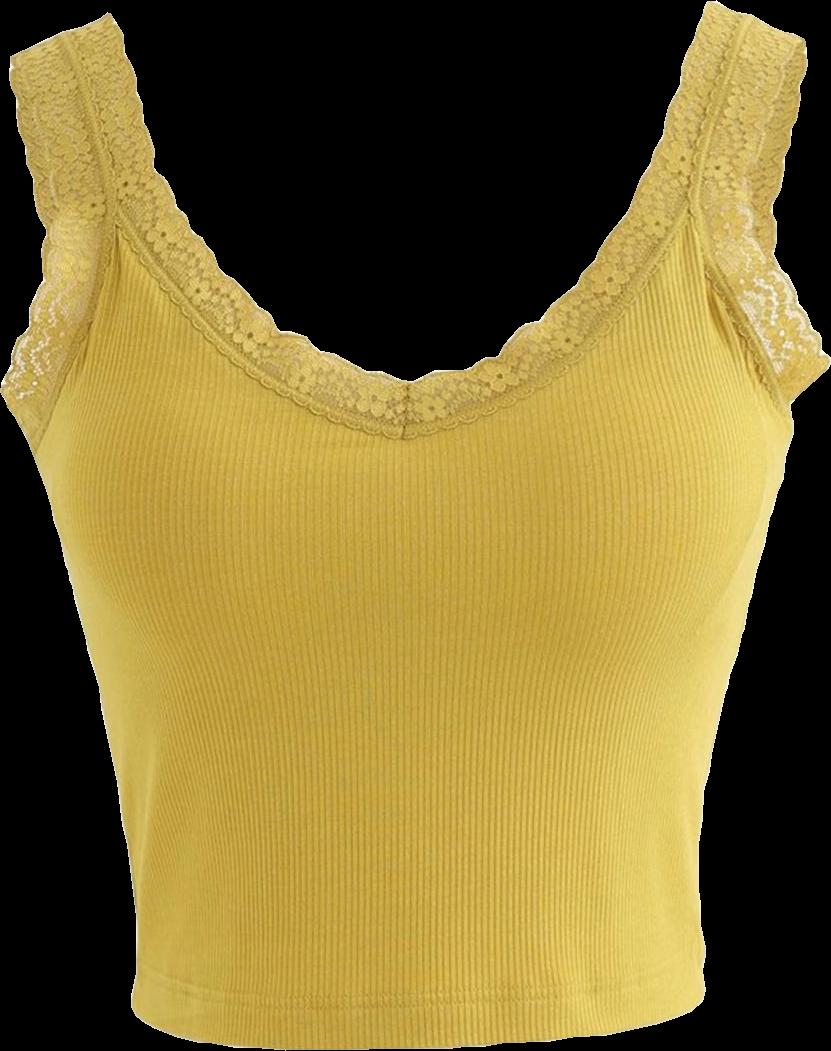Bodice: (1, 1, 820, 1047)
Neckline: (108, 0, 719, 390)
Waistline: (127, 987, 712, 1050)
